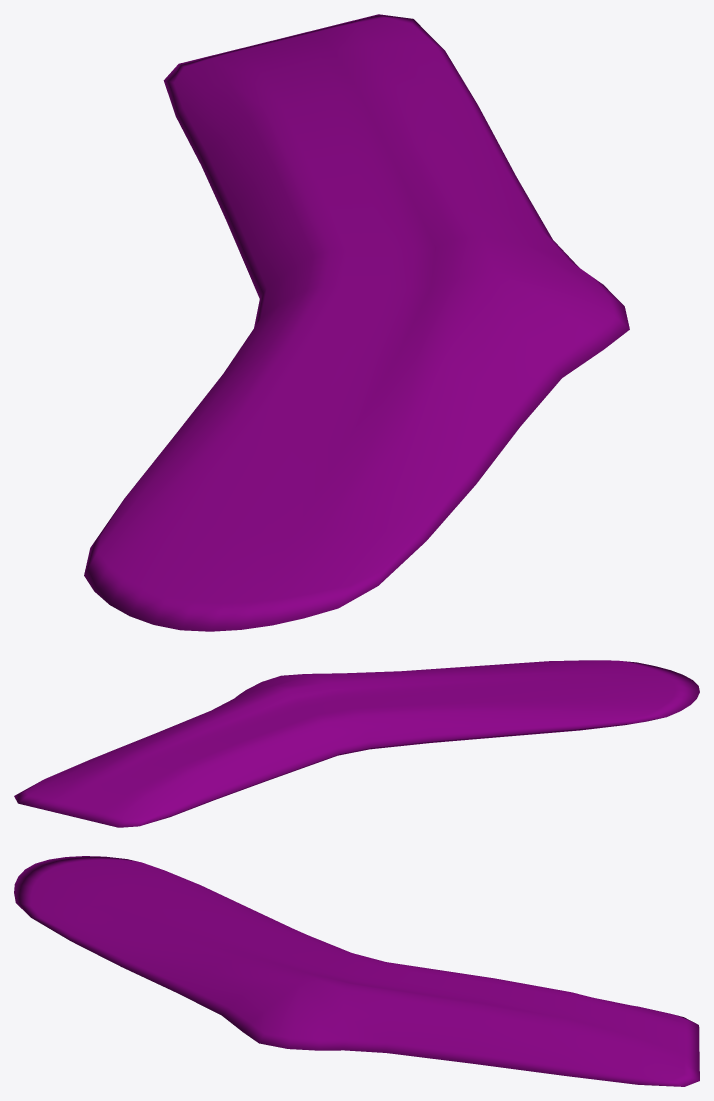
File: Sock_02.fbx
3 renders of one model, top to bottom at view 1: azimuth 30°, elevation 25°; view 2: azimuth 150°, elevation 25°; view 3: azimuth 270°, elevation 25°, orthographic. The views are drawn at different scales.
Parts seen in each view (by area): view 1: Sock_02; view 2: Sock_02; view 3: Sock_02.
Boxes of the visible parts, left/top/right/bottom form: Sock_02: left=84, top=14, right=629, bottom=631; Sock_02: left=14, top=660, right=699, bottom=827; Sock_02: left=14, top=856, right=699, bottom=1086.
Size of the model in its own units: 154 by 11.48 by 193.
